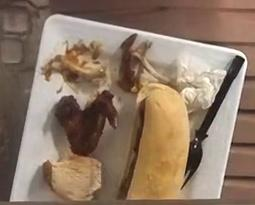bun: (127, 83, 190, 199)
pork: (42, 154, 102, 201)
wings: (55, 91, 118, 156)
